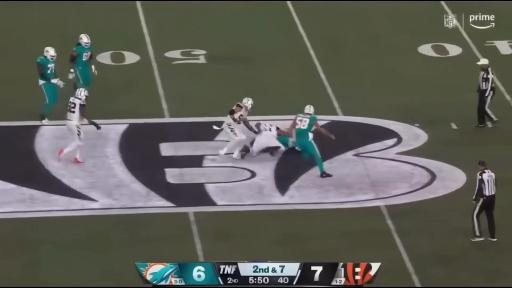Helmet: (75, 88, 88, 101), (44, 47, 56, 60), (79, 34, 90, 47), (242, 97, 253, 109), (304, 105, 314, 114)
Jersey: (295, 114, 317, 140), (67, 97, 85, 124), (74, 44, 91, 68), (37, 57, 55, 79), (233, 103, 248, 120), (262, 124, 277, 138)
Player: (289, 105, 335, 177), (59, 88, 100, 163), (219, 98, 257, 159), (37, 47, 63, 123), (69, 34, 97, 89), (252, 123, 291, 155)
